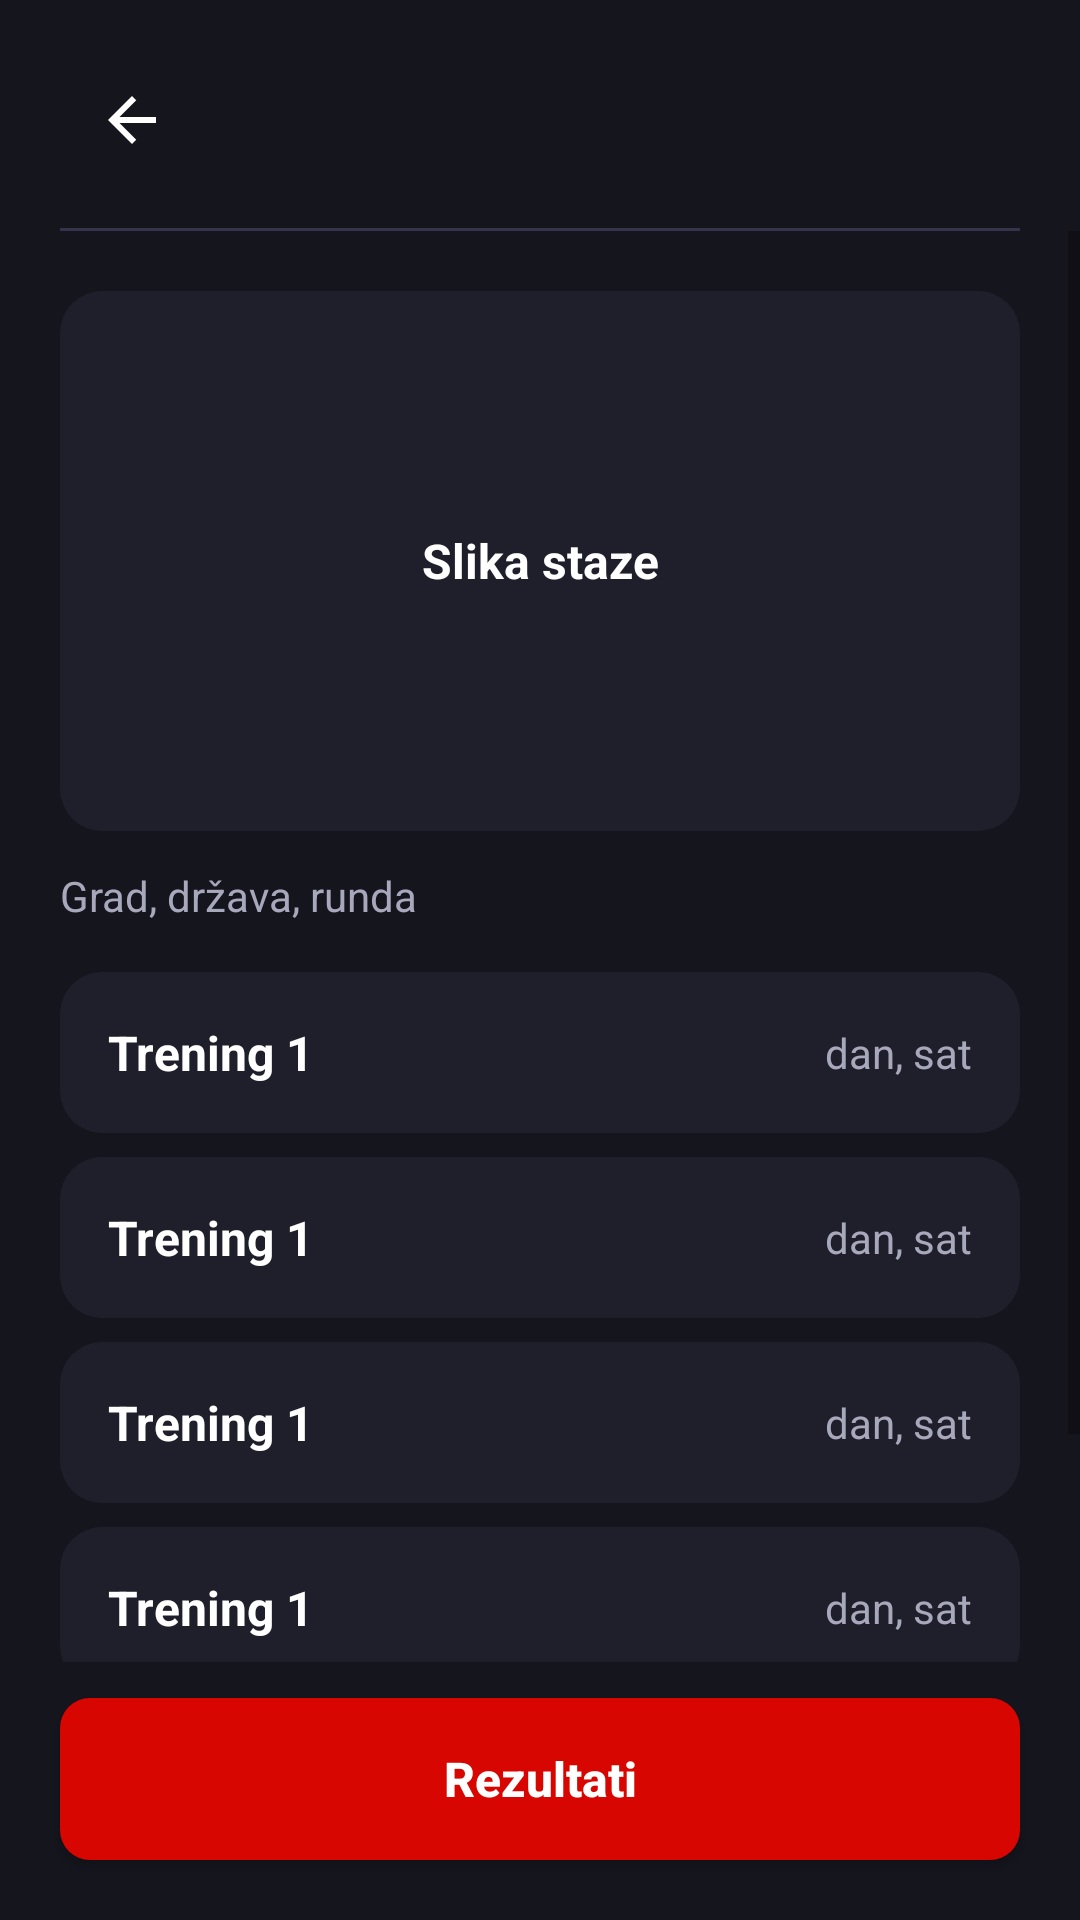

Where icons sit on this 1080w x 1920h app screen, as {"left": x1, "top": y1, "right": x2, "bottom": y2}:
Nazad: {"left": 108, "top": 96, "right": 156, "bottom": 144}
